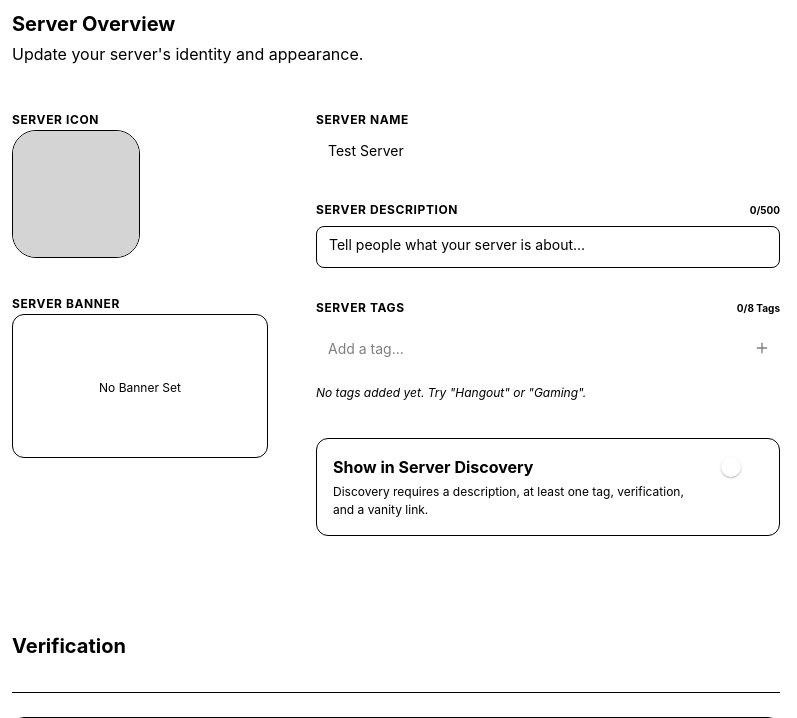
ServerOverviewSettings › uses unsaved description and tags when showing discovery blockers
The image size is (797, 718).
In the text box labelled "Server Description": [548, 247] box [317,227,779,267], type "A freshly typed description."
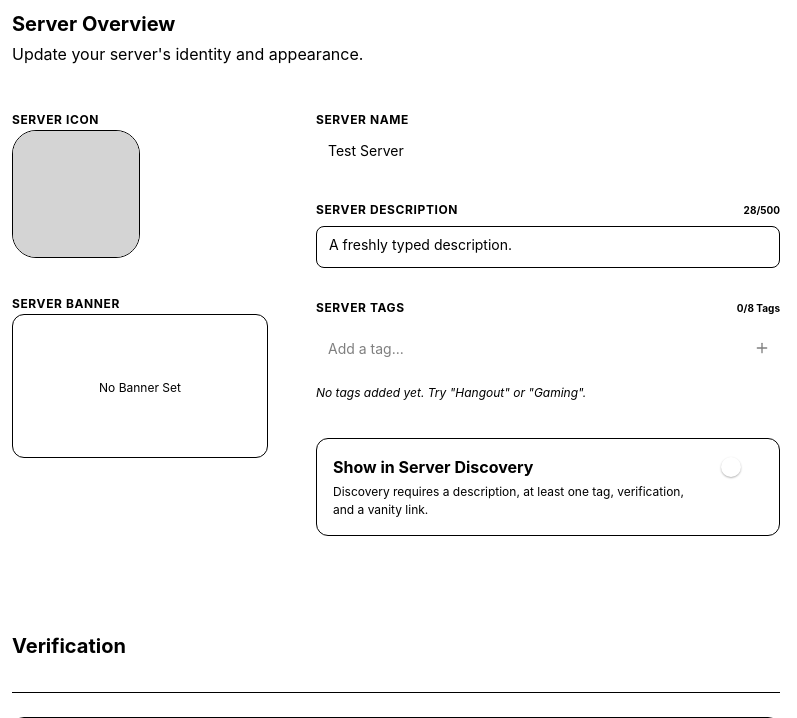
In the field labelled "Server Tags": [526, 348] box [316,328,736,368], type "Gaming"
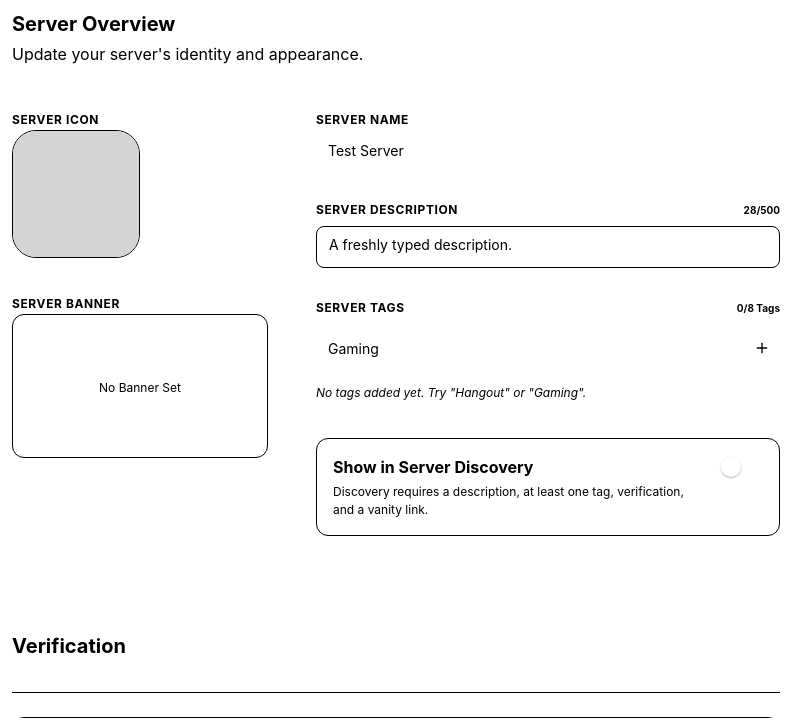
Press Enter in the field labelled "Server Tags", box [316,328,736,368]
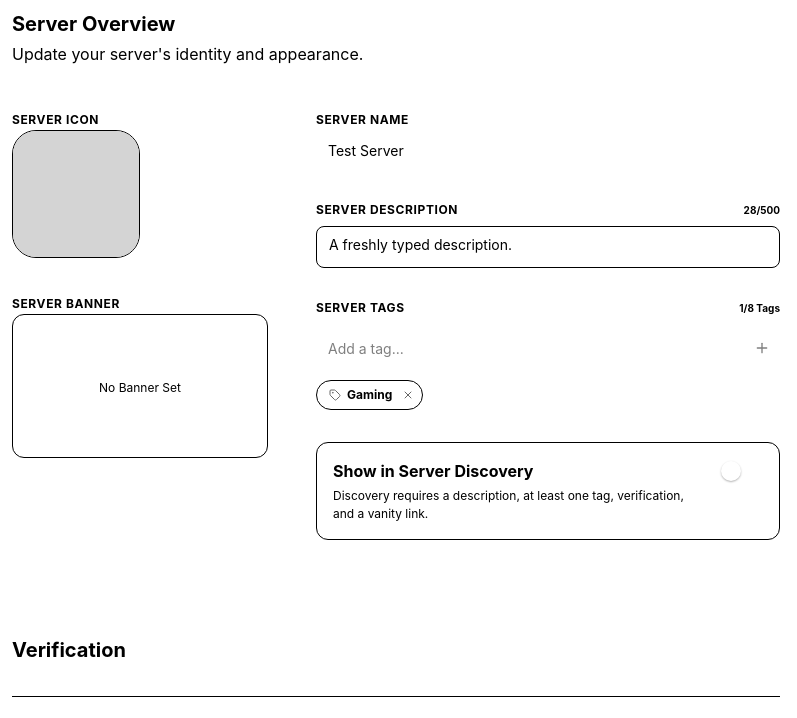
Click the checkbox named "Show in Server Discovery": [731, 471] box [721,461,741,481]
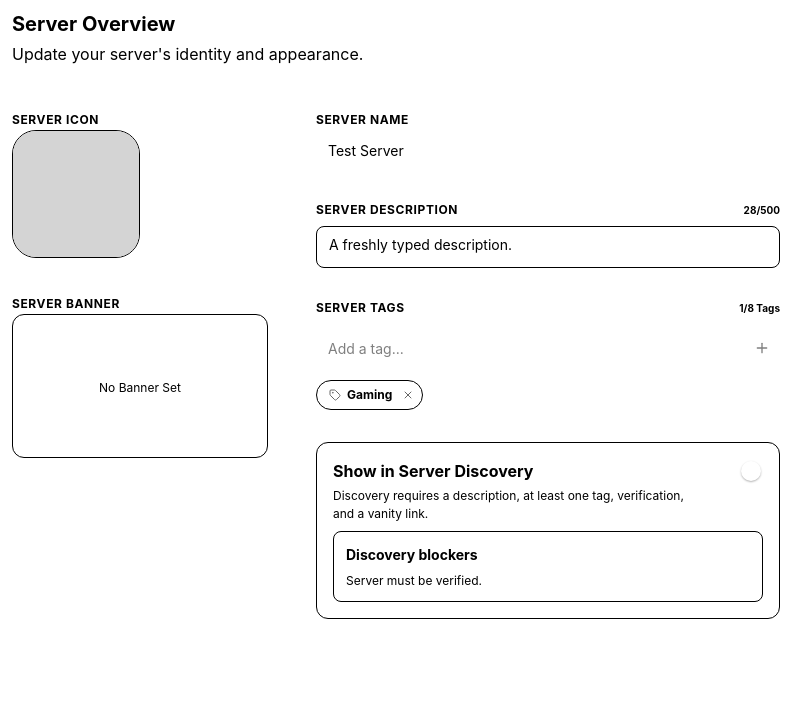
Now the list item "Server must be verified." is shown, box [346,573,482,588]
